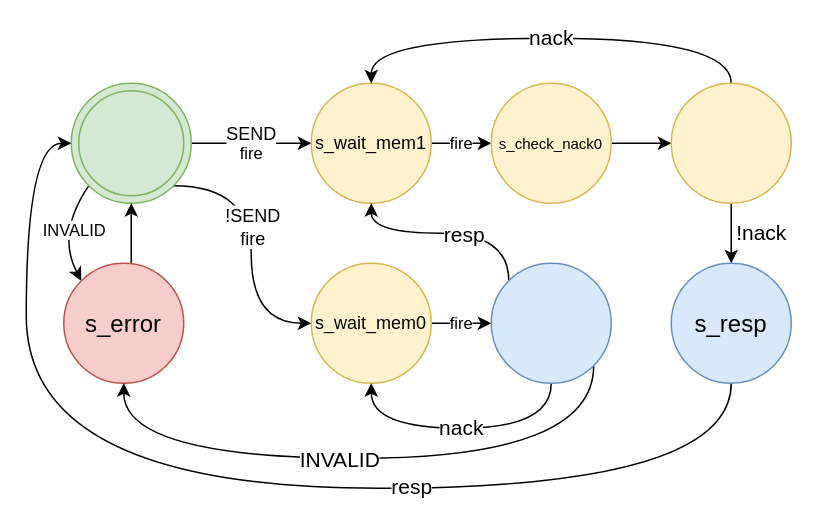
This 818x525 diagram has some shape labels left out. Here are the shapes that lost their labels. From the top down, the centre of each, then its label:
At point (130, 142): "s_idle".
At point (730, 142): "s_check_nack1".
At point (550, 322): "s_read_uist".
